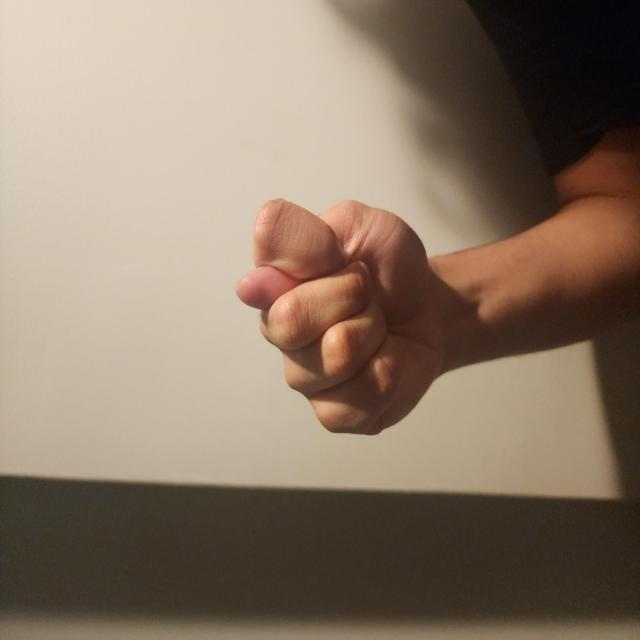T: (150, 304, 338, 606)
